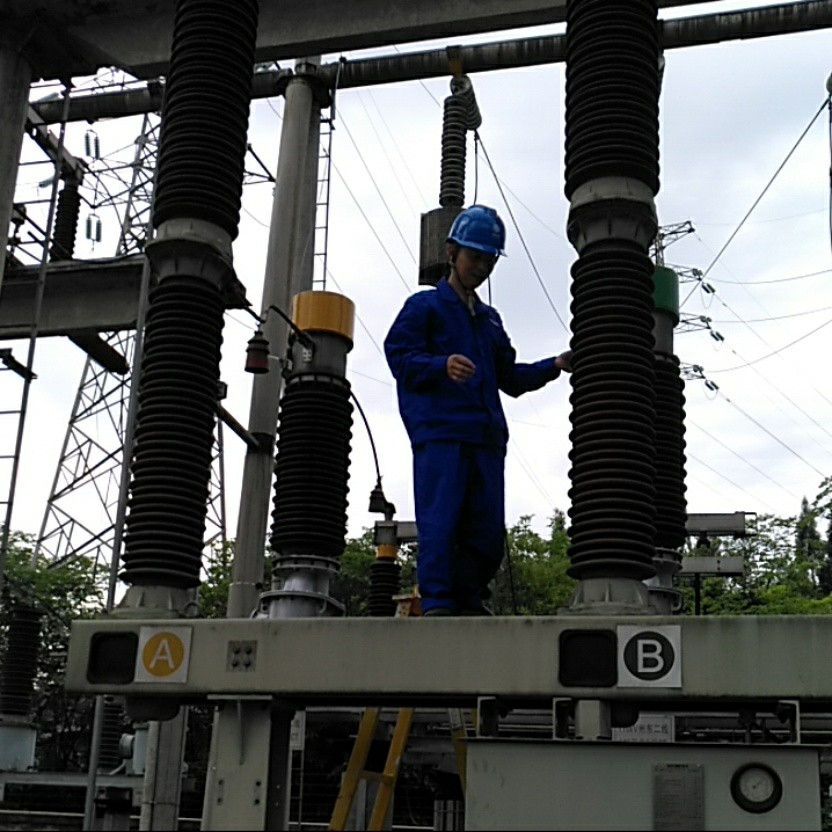hat: (440, 202, 509, 292)
